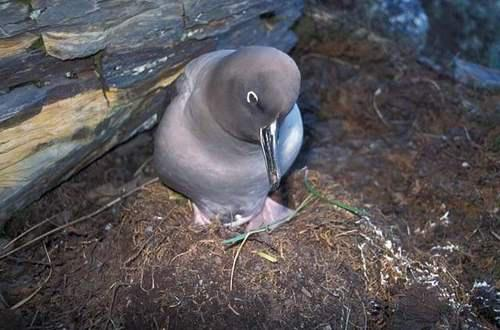003.Sooty_Albatross: (153, 45, 312, 238)
